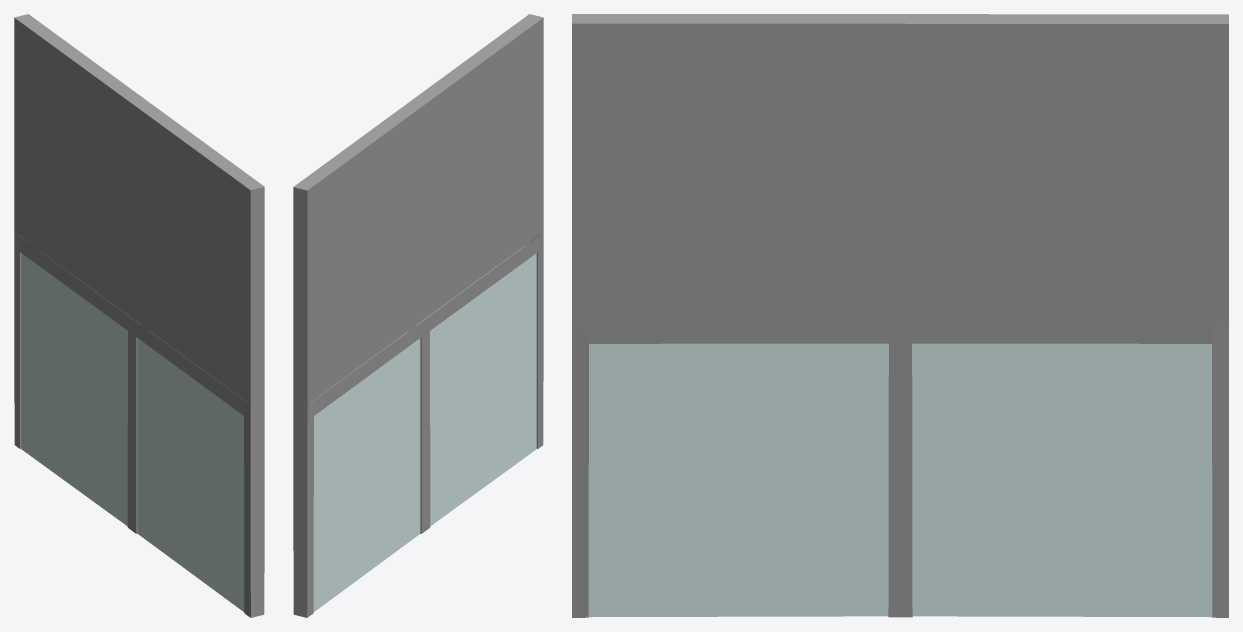
The model's file is GlassUpper.fbx.
3 views of the same model, side by side, from view 1: azimuth 30°, elevation 25°; view 2: azimuth 150°, elevation 25°; view 3: azimuth 270°, elevation 25° (orthographic). The views are drawn at different scales.
Visible parts, largest first — view 1: polySurface74; view 2: polySurface74; view 3: polySurface74.
Part boxes in pixels (x1=…): polySurface74: x1=14, y1=14, x2=264, y2=617; polySurface74: x1=293, y1=14, x2=543, y2=617; polySurface74: x1=572, y1=14, x2=1228, y2=617.
Size of the model in its own units: 0.1814 by 4.99 by 5.
